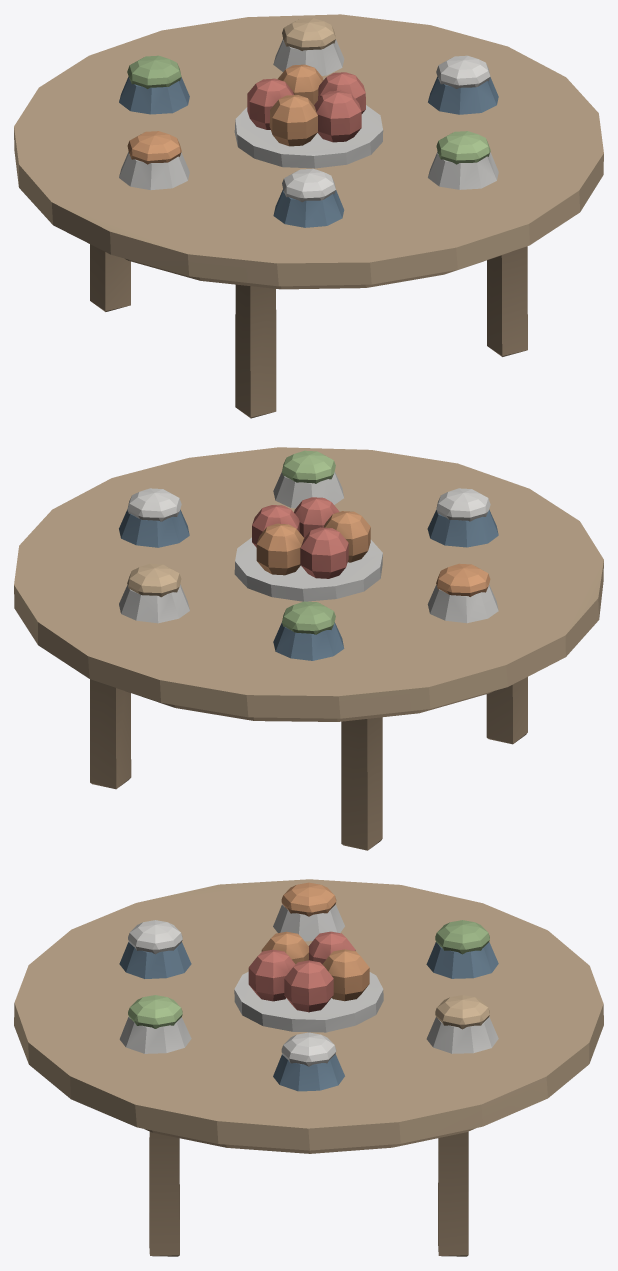
The model's file is harvest_feast_table_low.glb.
3 views of the same model, one above another, from view 1: azimuth 30°, elevation 25°; view 2: azimuth 150°, elevation 25°; view 3: azimuth 270°, elevation 25° (orthographic).
Bounding box in the file's own units: 1.1 × 0.5 × 1.1.
